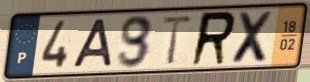4: (39, 18, 70, 72)
9: (115, 13, 156, 71)
A: (70, 17, 115, 70)
R: (188, 9, 239, 69)
T: (160, 14, 196, 67)
X: (229, 10, 277, 66)
